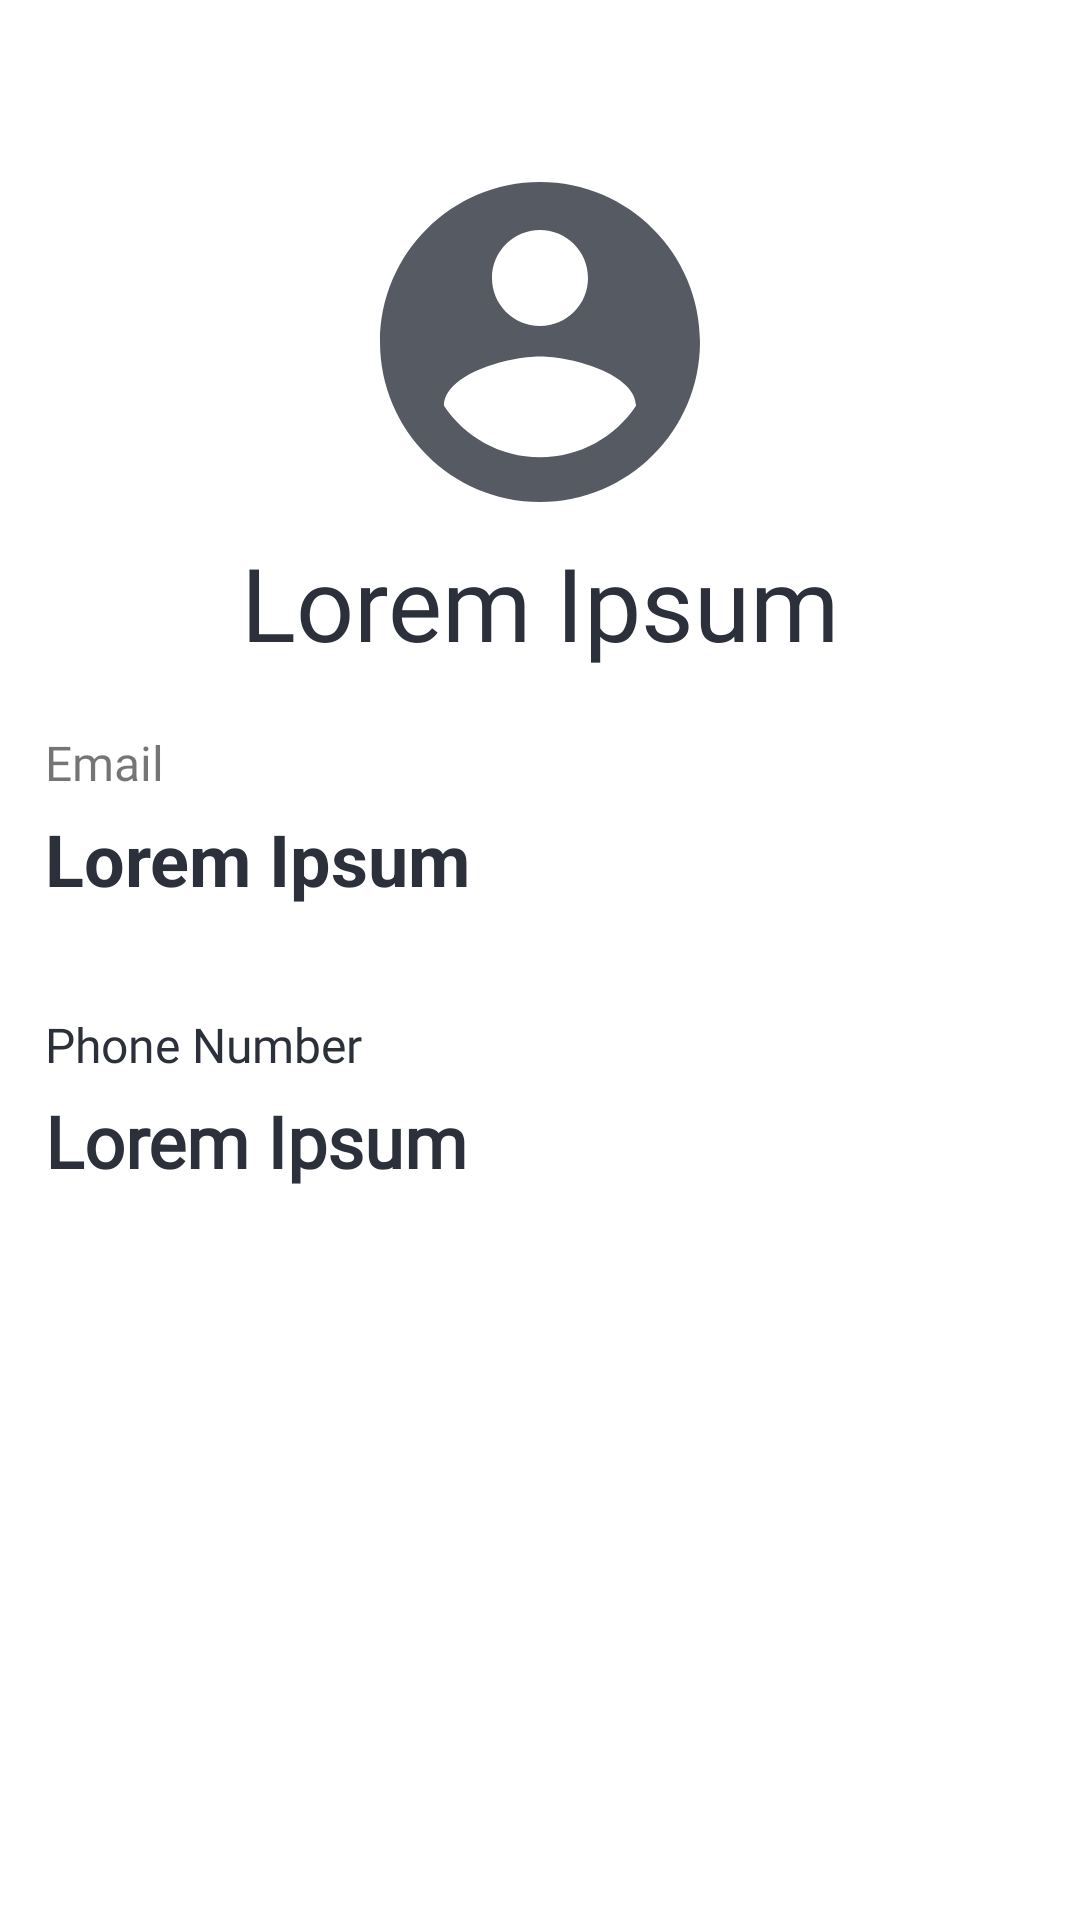

Where to tap for icons on this 1080x1920 app screen, as [x,y]:
account: [540,342]
